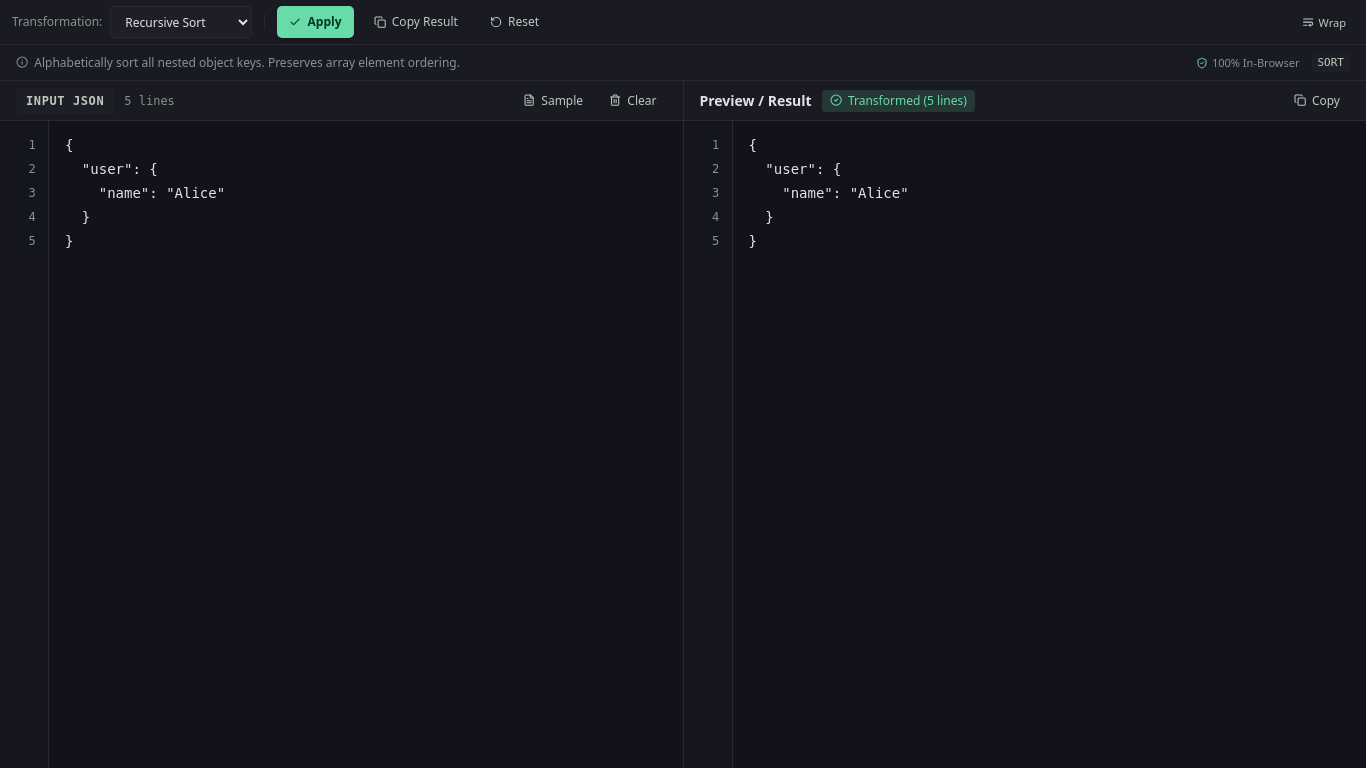
Test case: Transform Feature Component Suite › TransformWorkbench Integration › allows changing transformation to Flatten and displays flattened output
Select "Flatten" in the dropdown with test id "transform-selector" at (181, 22), box [110,6,252,38]
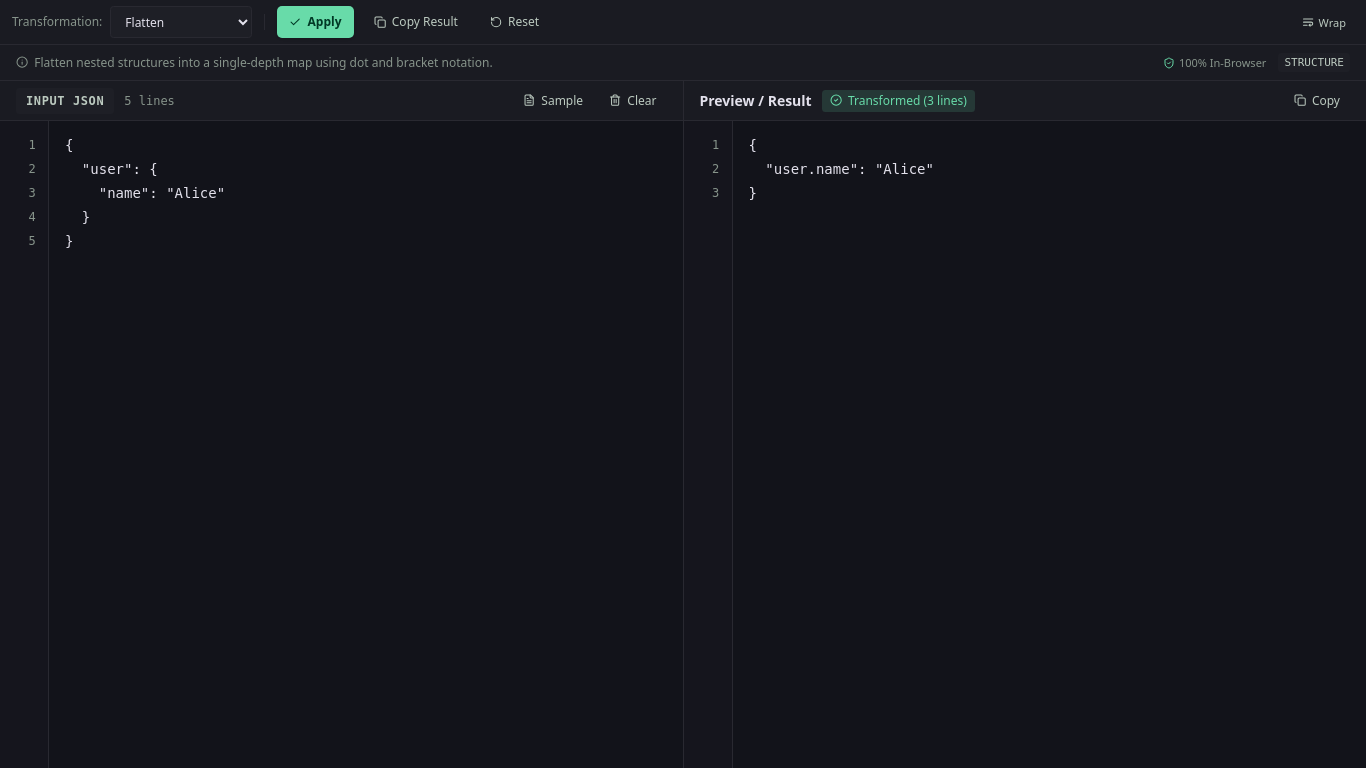
Result: the text with test id "transform-preview-output" shows "\"user.name\": \"Alice\"" at [748,137,934,201]
